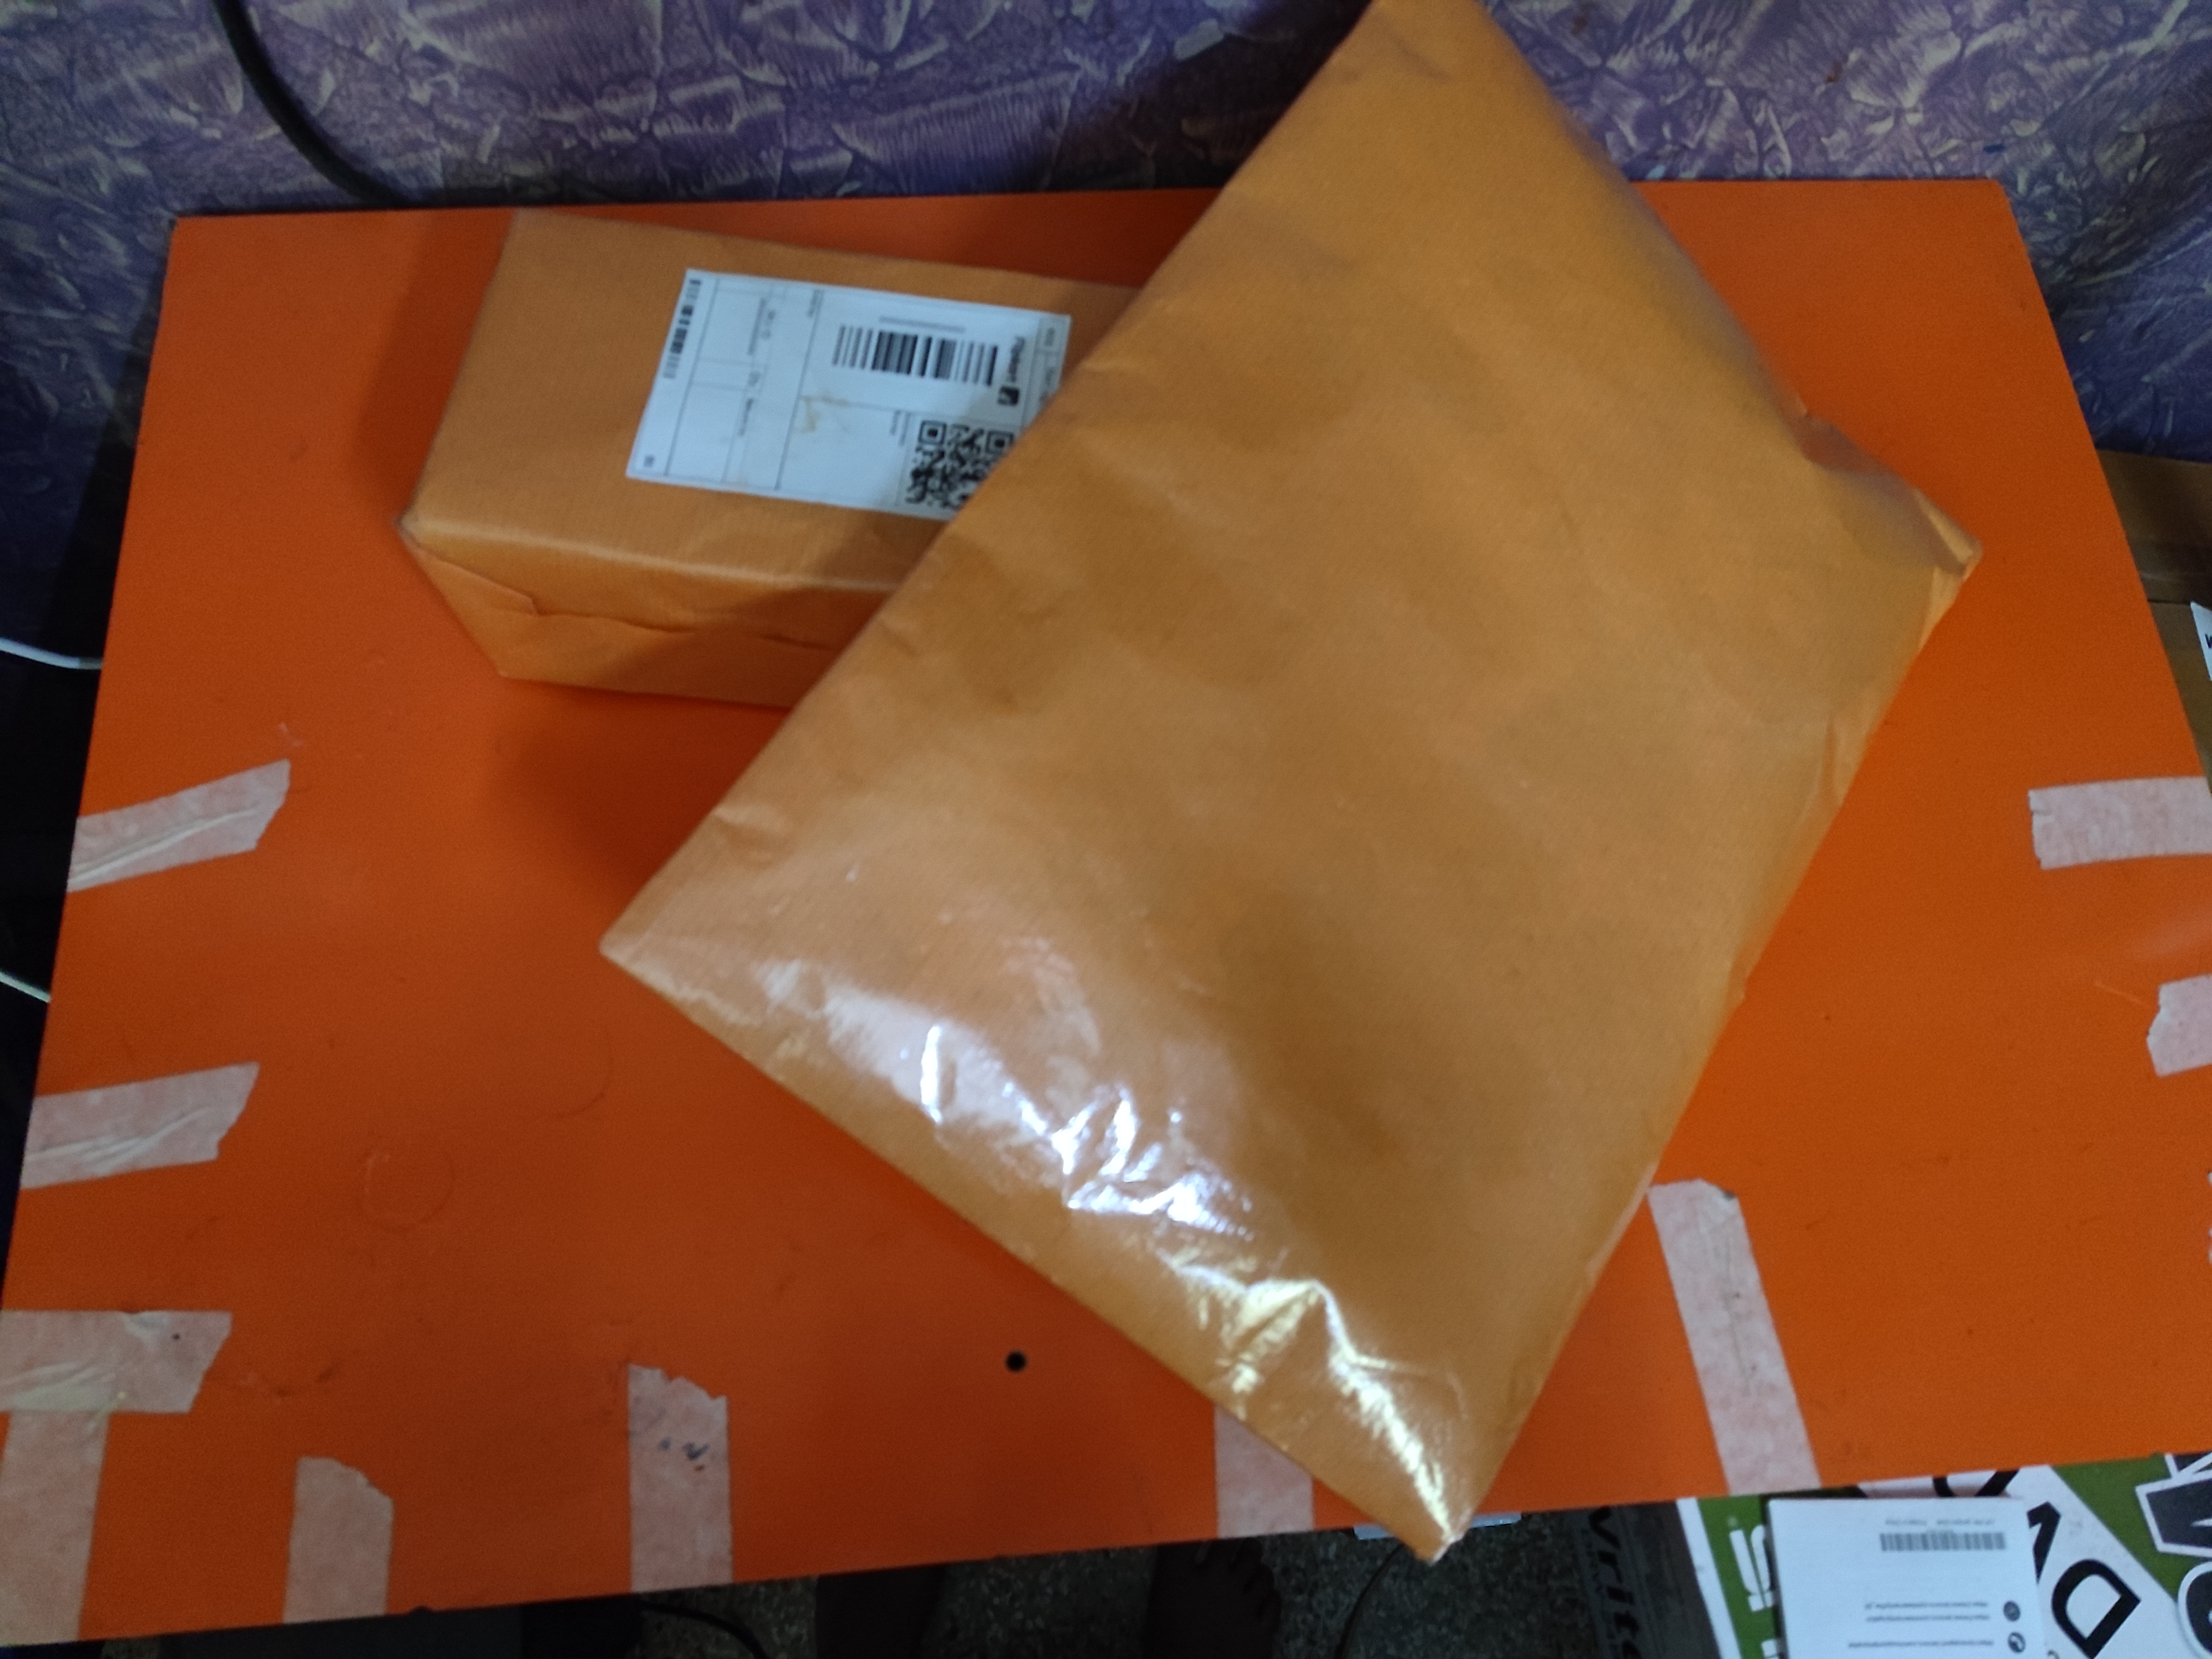Box: (415, 178, 1808, 1371)
